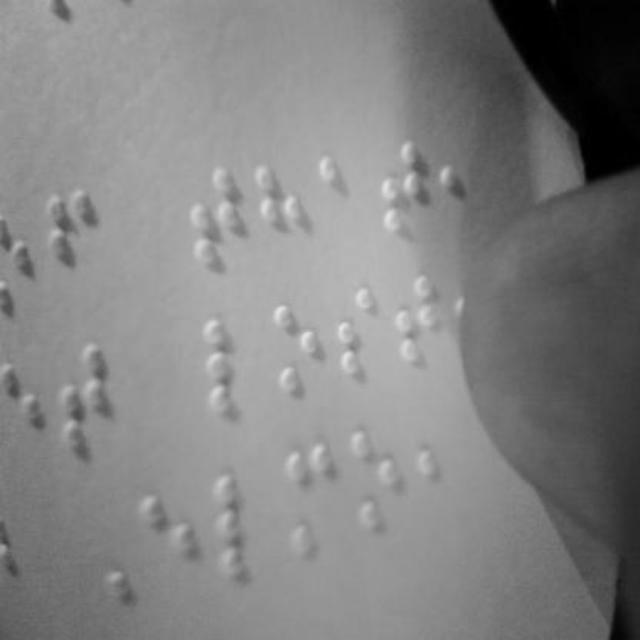braiile: (211, 464, 275, 586), (133, 484, 199, 596), (54, 344, 116, 460), (44, 184, 104, 300), (390, 266, 450, 382), (346, 428, 408, 540), (284, 441, 340, 554), (2, 352, 58, 464), (190, 168, 246, 276), (316, 148, 370, 258), (266, 300, 326, 398), (330, 277, 386, 381), (202, 312, 260, 412), (375, 138, 425, 254), (253, 158, 305, 266)
